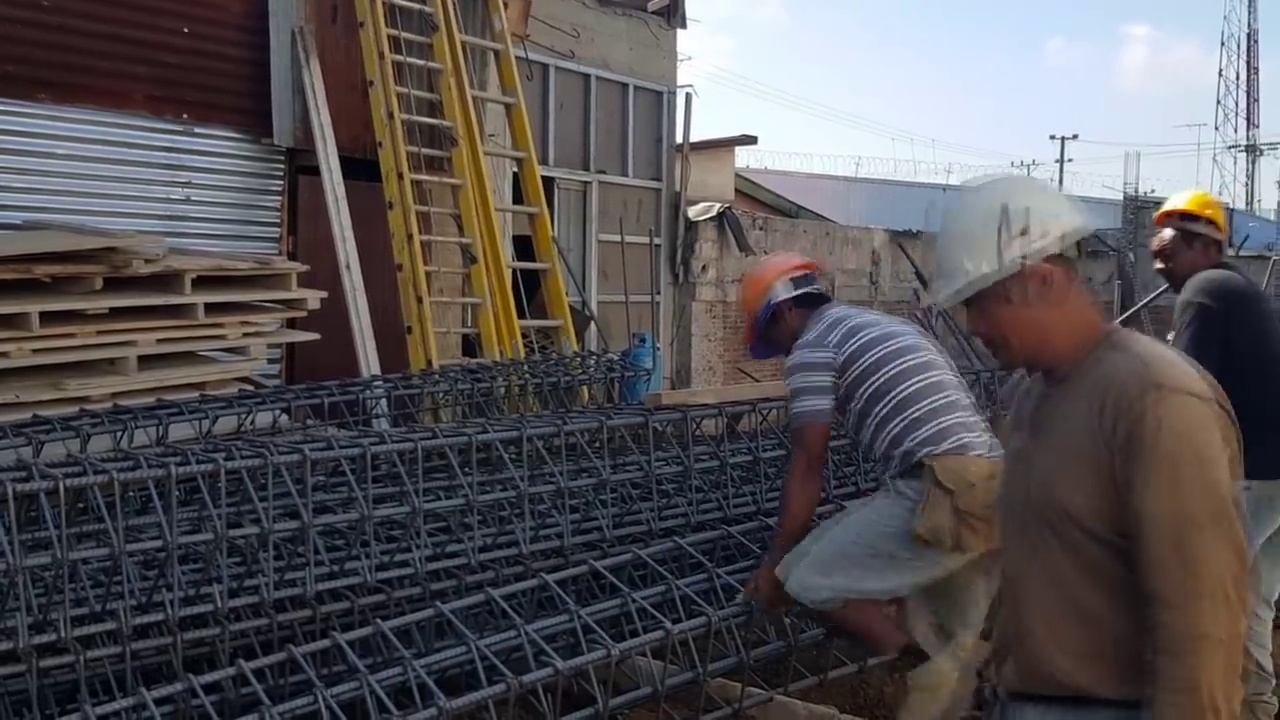helmet: (916, 173, 1096, 314), (735, 246, 828, 350), (1155, 186, 1232, 238)
helmet-on: (918, 173, 1123, 375), (733, 245, 835, 364), (1154, 183, 1231, 290)
person: (918, 174, 1245, 716), (730, 245, 1012, 716), (1154, 183, 1280, 719)
